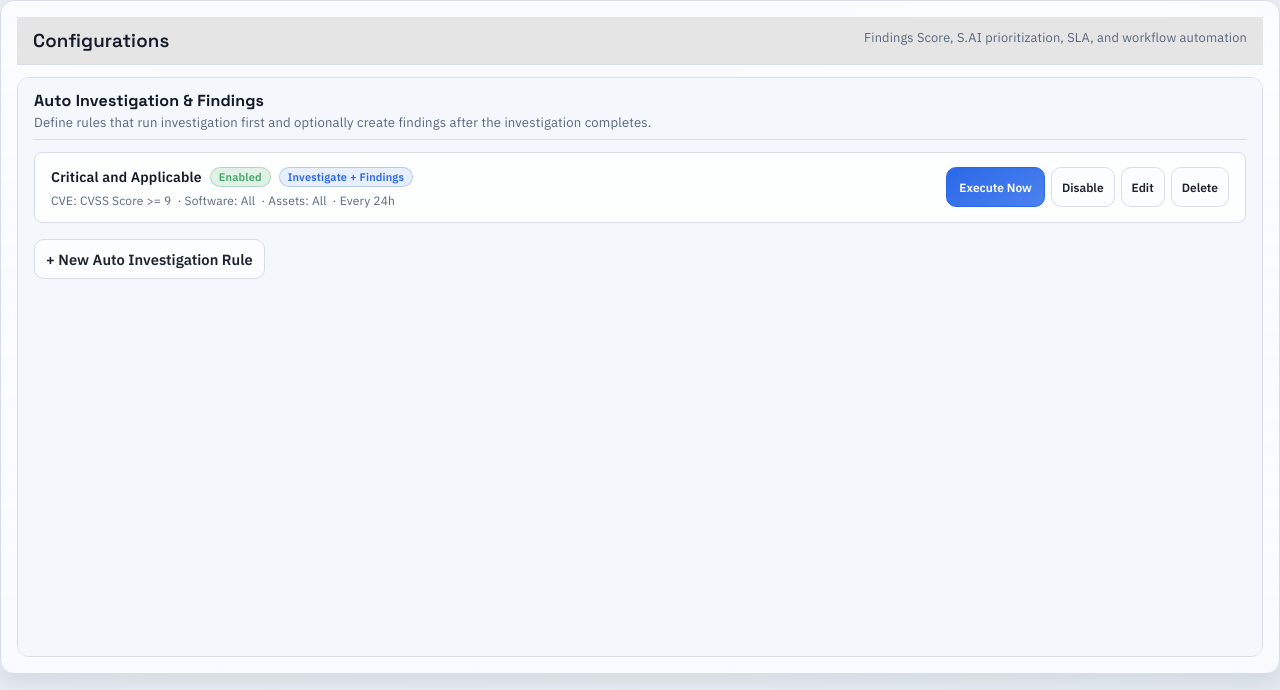
Test: ConfigurationsPage › hides software and asset scope when create findings is disabled
Click the button "Edit": (1143, 187) [1121,167,1165,207]
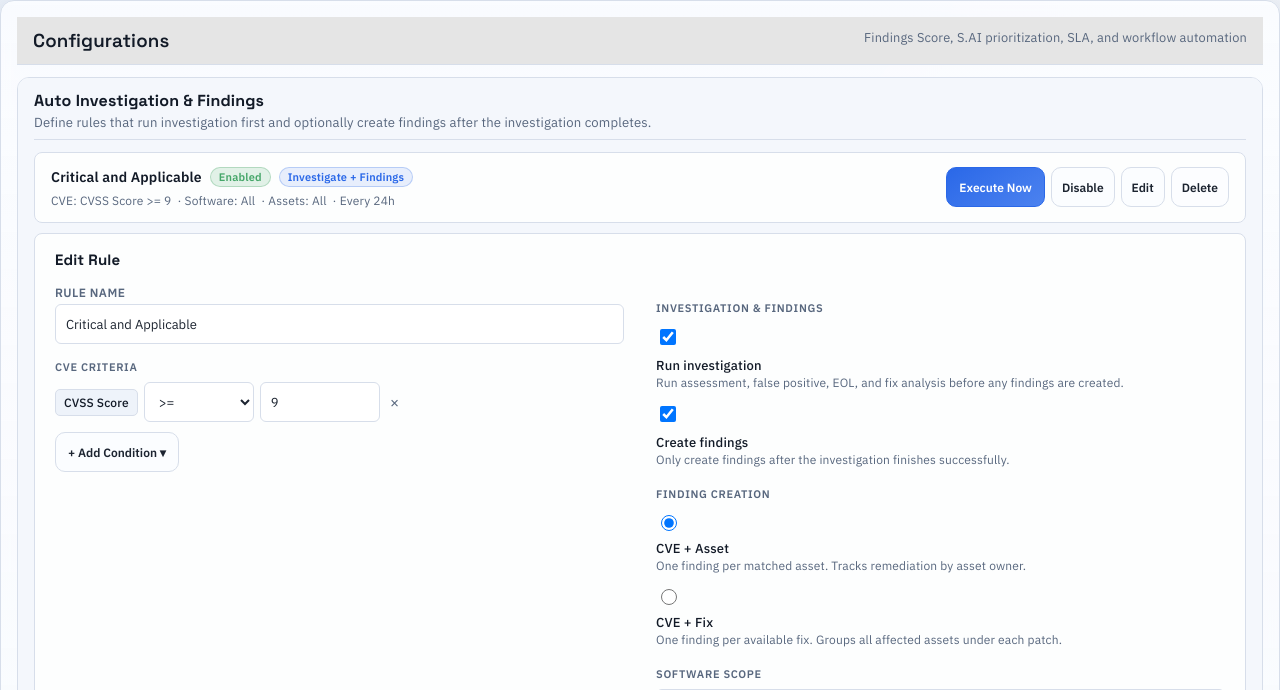
Click the checkbox labelled "Create findings": (668, 414) [660,406,676,422]
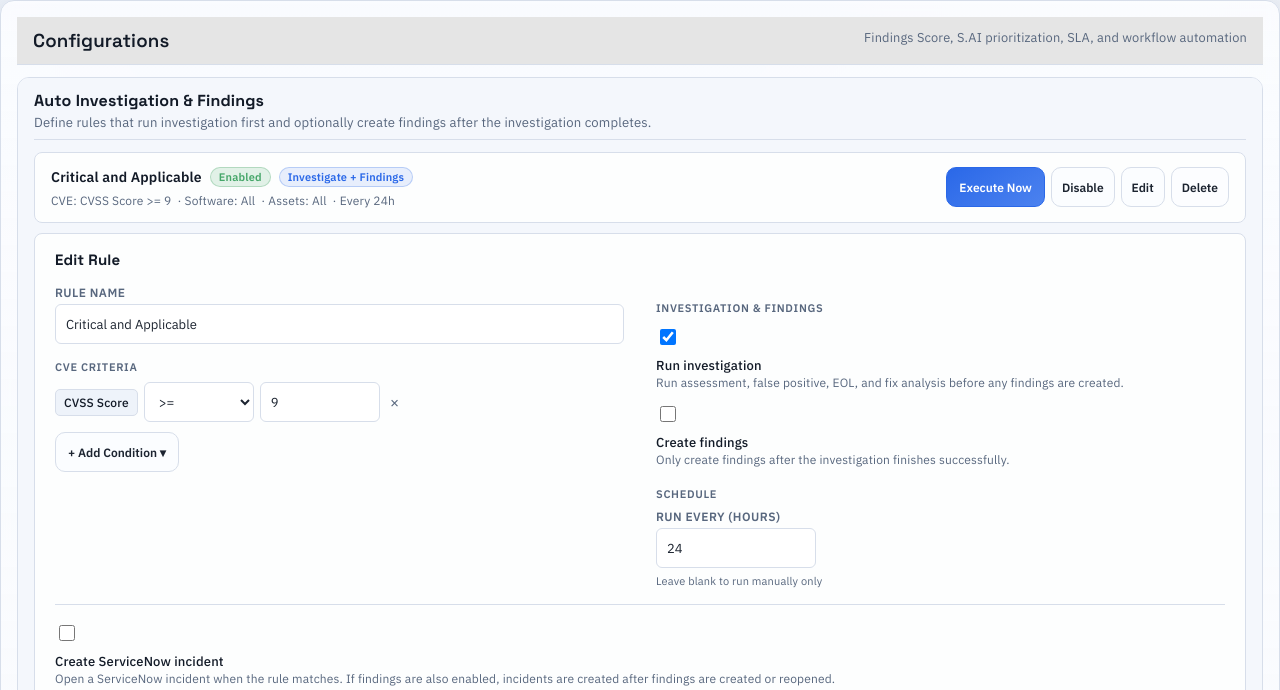
Result: the text "Software Scope" is gone
Result: the text "Finding Creation" is gone
